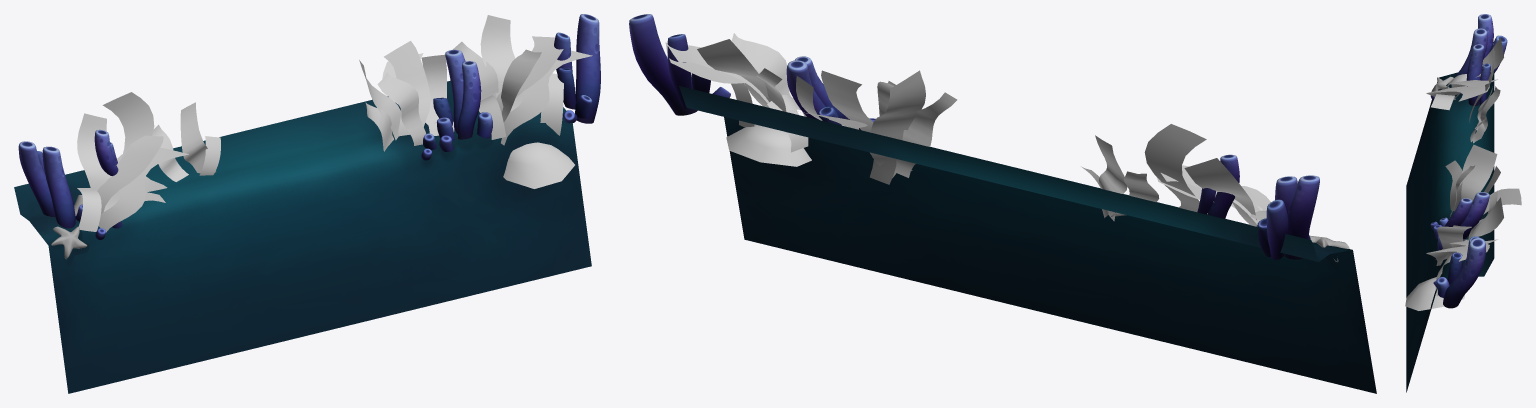
Rendered from Shelf3.fbx.
The picture shows the model from 3 angles, left to right: view 1: azimuth 30°, elevation 25°; view 2: azimuth 150°, elevation 25°; view 3: azimuth 270°, elevation 25°; orthographic projection. The views are drawn at different scales.
Visible parts, largest first — view 1: Shelf3; view 2: Shelf3; view 3: Shelf3.
Boxes of the visible parts, <box> form: Shelf3: <box>14,14,600,393</box>; Shelf3: <box>629,14,1376,393</box>; Shelf3: <box>1405,14,1521,392</box>.
Bounding box in the file's own units: 438 × 171 × 94.85.
